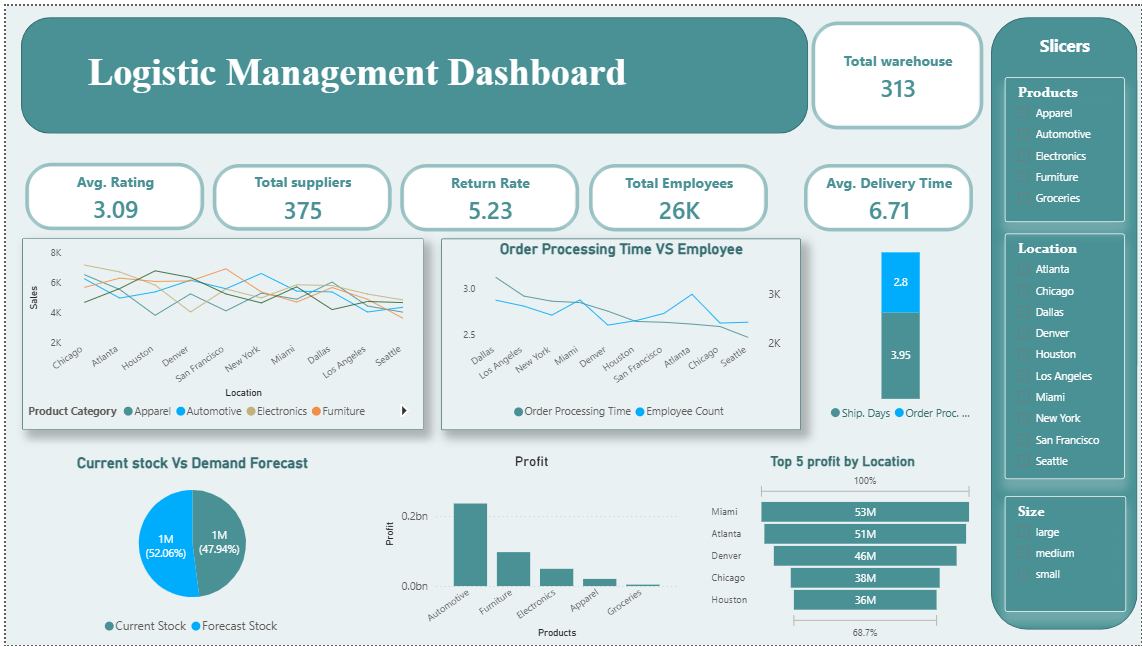

This screenshot's page, from the dashboard's own definition file:
{"tool":"powerbi","page":{"name":"Page 1","canvas":[1280,720],"ordinal":0},"visuals":[{"type":"shape","box":[1110,13.3,165,690],"z":0},{"type":"slicer","fields":{"Values":["supply_chain_data.Location"]},"box":[1125,256.7,135,276.7],"z":1000},{"type":"slicer","fields":{"Values":["supply_chain_data.Warehouse_Size"]},"box":[1125,551.7,136.7,130],"z":2000},{"type":"shape","box":[16.7,13.1,886.9,131.1],"z":3000},{"type":"cardVisual","fields":{"Data":["supply_chain_data.total_suppliers"]},"box":[228.3,173.3,211.7,85],"z":4000},{"type":"cardVisual","fields":{"Data":["supply_chain_data.total_warehouse"]},"box":[903.3,13.3,203.3,131.7],"z":5000},{"type":"cardVisual","fields":{"Data":["supply_chain_data.Avg_Rating"]},"box":[16.7,171.7,211.7,86.7],"z":6000},{"type":"cardVisual","fields":{"Data":["supply_chain_data.Total_Employees"]},"box":[651.7,173.3,211.7,86.7],"z":7000},{"type":"cardVisual","fields":{"Data":["supply_chain_data.Avg_Return_Rate"]},"box":[440,173.3,211.7,86.7],"z":8000},{"type":"textbox","box":[87.1,45.7,668.6,70],"z":9000},{"type":"cardVisual","fields":{"Data":["supply_chain_data.Avg_Delivery_Time"]},"box":[895,173.3,200,86.7],"z":10000},{"type":"columnChart","title":"Delivery time ","fields":{"Y":["Avg(supply_chain_data.Shipping_Time_Days)","Avg(supply_chain_data.Order_Processing_Time)"]},"box":[923.8,256.3,171.7,220.5],"z":11000},{"type":"slicer","fields":{"Values":["supply_chain_data.Product_Category"]},"box":[1125,80,135,163.3],"z":12000},{"type":"textbox","box":[1125,26.7,135,38.3],"z":13000},{"type":"pieChart","title":"Current stock Vs Demand Forecast","fields":{"Y":["Sum(supply_chain_data.Current_Stock)","Sum(supply_chain_data.Demand_Forecast)"]},"box":[17.9,504.2,383.8,213.4],"z":14000},{"type":"lineChart","title":"Order Processing Time VS Employee","fields":{"Category":["supply_chain_data.Location"],"Y":["Avg(supply_chain_data.Order_Processing_Time)"],"Y2":["Sum(supply_chain_data.Employee_Count)"]},"box":[489.9,262.2,405.3,215.8],"z":15000},{"type":"lineChart","fields":{"Category":["supply_chain_data.Location"],"Y":["Avg(supply_chain_data.Monthly_Sales)"],"Series":["supply_chain_data.Product_Category"]},"box":[18.3,261.7,451.7,215],"z":16000},{"type":"funnel","title":"Top 5 profit by Location","fields":{"Category":["supply_chain_data.Location"],"Y":["Sum(supply_chain_data.Profit)"]},"box":[790.3,504.2,305.2,213.4],"z":17000},{"type":"columnChart","title":"Profit","fields":{"Category":["supply_chain_data.Product_Category"],"Y":["Sum(supply_chain_data.Profit)"]},"box":[422,504.2,339.7,213.4],"z":18000}]}

Visuals, with their boxes in screenshot pixels (x1, y1, x2, y2), scaled from the page's 1280x720 canvas onto the 1142x647 screenshot:
shape: detection(990, 12, 1138, 632)
slicer - supply_chain_data.Location: detection(1004, 231, 1124, 479)
slicer - supply_chain_data.Warehouse_Size: detection(1004, 496, 1126, 613)
shape: detection(15, 12, 806, 130)
cardVisual - supply_chain_data.total_suppliers: detection(204, 156, 393, 232)
cardVisual - supply_chain_data.total_warehouse: detection(806, 12, 987, 130)
cardVisual - supply_chain_data.Avg_Rating: detection(15, 154, 204, 232)
cardVisual - supply_chain_data.Total_Employees: detection(581, 156, 770, 234)
cardVisual - supply_chain_data.Avg_Return_Rate: detection(393, 156, 581, 234)
textbox: detection(78, 41, 674, 104)
cardVisual - supply_chain_data.Avg_Delivery_Time: detection(799, 156, 977, 234)
"Delivery time " columnChart: detection(824, 230, 977, 428)
slicer - supply_chain_data.Product_Category: detection(1004, 72, 1124, 219)
textbox: detection(1004, 24, 1124, 58)
"Current stock Vs Demand Forecast" pieChart: detection(16, 453, 358, 645)
"Order Processing Time VS Employee" lineChart: detection(437, 236, 799, 430)
lineChart - supply_chain_data.Location x Avg(supply_chain_data.Monthly_Sales): detection(16, 235, 419, 428)
"Top 5 profit by Location" funnel: detection(705, 453, 977, 645)
"Profit" columnChart: detection(377, 453, 680, 645)
